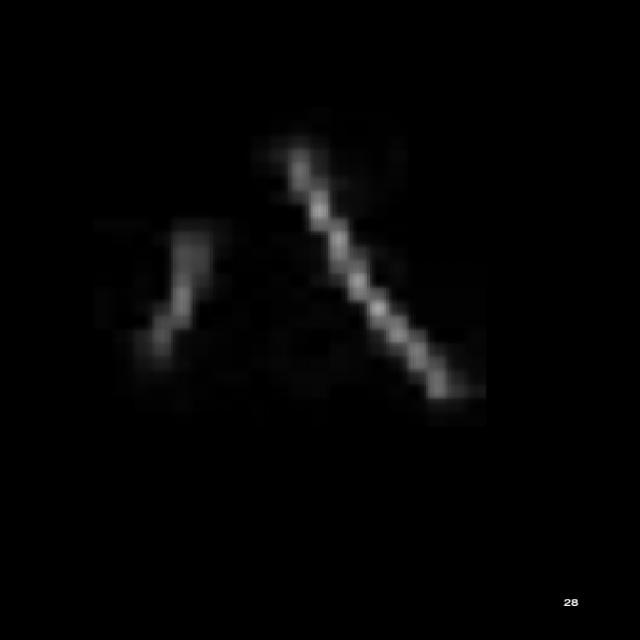8 -eight-: (115, 139, 472, 411)
